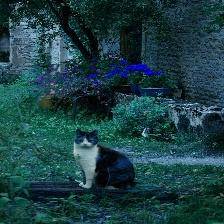kedo: (75, 128, 135, 190)
